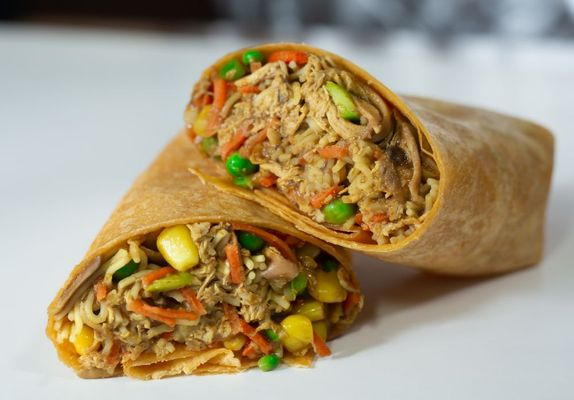soup: (44, 50, 444, 382), (45, 128, 371, 381)
